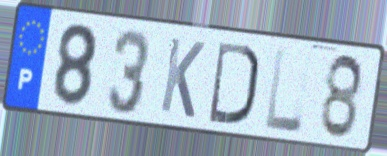3: (106, 25, 152, 118)
8: (316, 52, 366, 142), (49, 21, 99, 109)
D: (207, 38, 261, 128)
K: (157, 34, 208, 122)
L: (263, 45, 305, 135)
